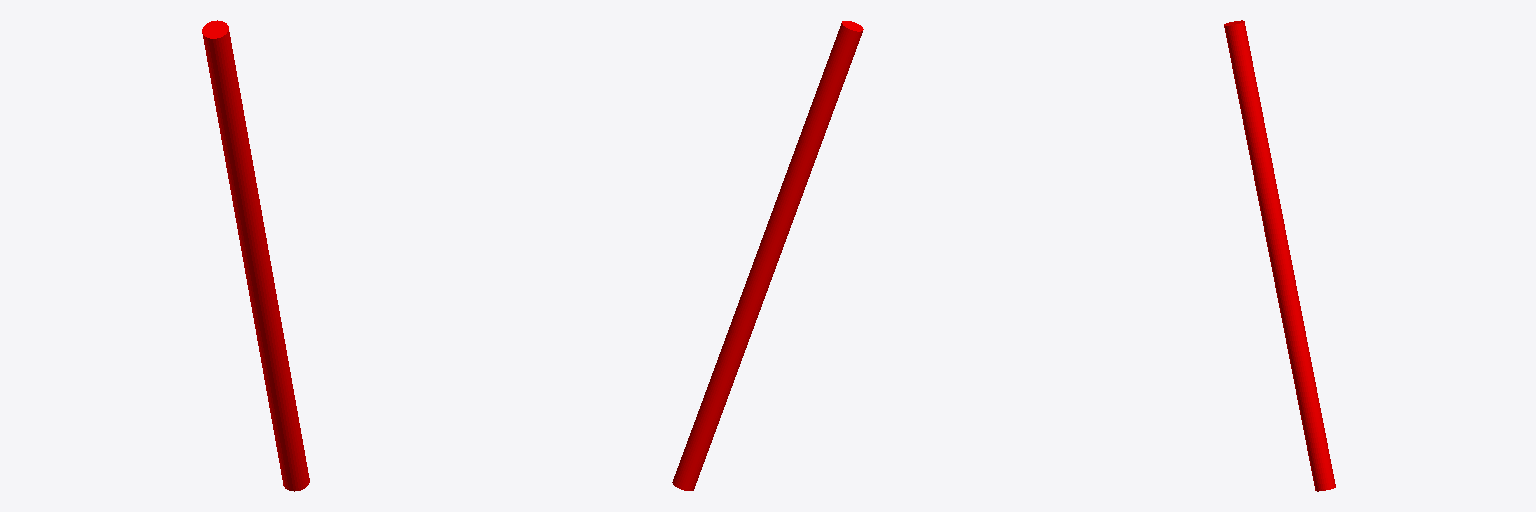
URDF robot description (tree_36.urdf):
<?xml version='1.0' encoding='utf-8'?>
<robot name="tree_36.urdf">
  <link name="branch_0">
    <inertial>
      <origin xyz="0.0 0.0 0.0" rpy="0.0 -0.0 0.0" />
      <mass value="1.0" />
      <inertia ixx="1.0" ixy="0.0" ixz="0.0" iyy="1.0" iyz="0.0" izz="1.0" />
    </inertial>
    <visual name="branch_0_visual">
      <geometry>
        <cylinder radius="0.06002860618761728" length="2.7517657690874984" />
      </geometry>
      <material name="semantic_material" />
      <origin xyz="-0.3595914753428581 -0.2615143294813609 1.3020591147551976" rpy="-2.2447135777759267e-17 0.32906646200274137 -2.5128086328982793" />
    </visual>
    <collision name="branch_0_collision">
      <geometry>
        <cylinder radius="0.06002860618761728" length="2.7517657690874984" />
      </geometry>
      <origin xyz="-0.3595914753428581 -0.2615143294813609 1.3020591147551976" rpy="-2.2447135777759267e-17 0.32906646200274137 -2.5128086328982793" />
    </collision>
  </link>
  <material name="semantic_material">
    <color rgba="1. 0. 0. 1." />
  </material>
</robot>

--- What the picture shows (computed from the rendered views, not written in the file) ---
The picture shows the robot from 3 angles, left to right: view 1: azimuth 30°, elevation 25°; view 2: azimuth 150°, elevation 25°; view 3: azimuth 270°, elevation 25°; orthographic projection.
Robot: tree_36.urdf — 1 links, 0 joints (none); root link branch_0; default pose: every joint at zero.
Visible links, largest first — view 1: branch_0; view 2: branch_0; view 3: branch_0.
Link boxes in pixels (<box>): branch_0: <box>202,20,309,491</box>; branch_0: <box>672,21,863,490</box>; branch_0: <box>1224,20,1335,491</box>.
Size in the robot's own frame: 0.8348 by 0.6409 by 2.64 metres.
Geometry: primitives only (box / cylinder / sphere), no mesh files.